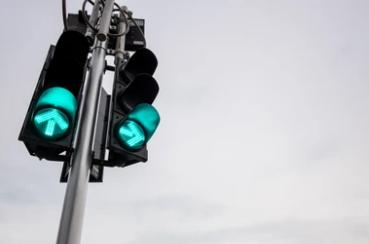green_light: (19, 30, 89, 148), (107, 48, 160, 162)
